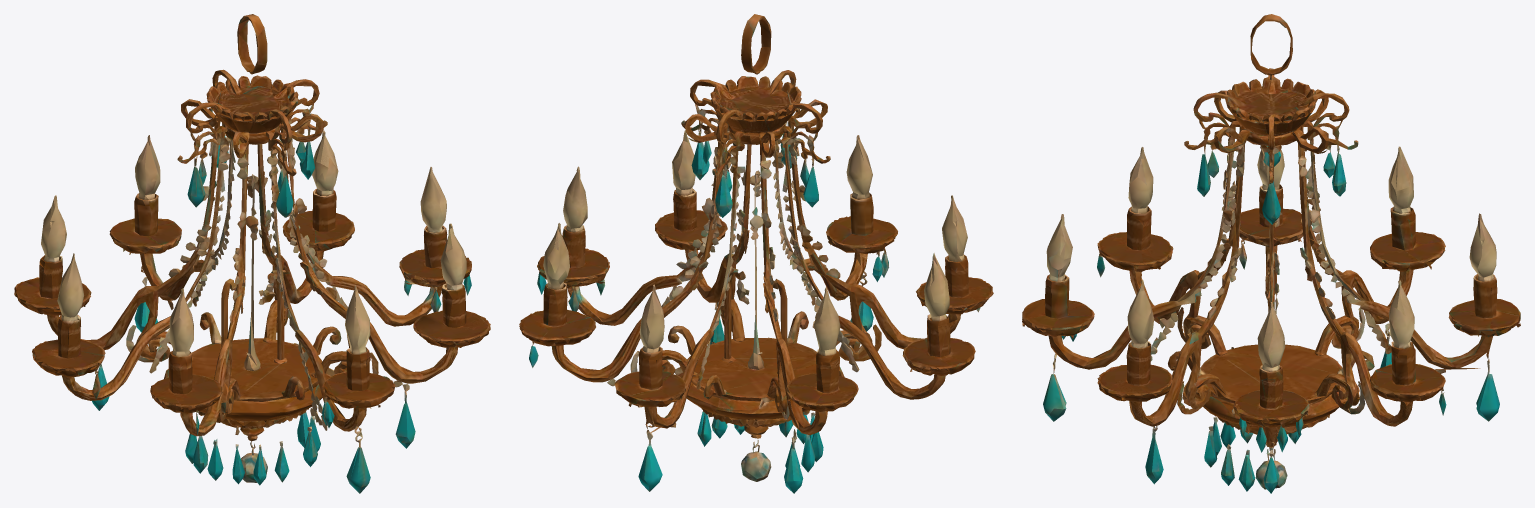
The model's file is mx_hh_chandelier.glb.
The picture shows the model from 3 angles, left to right: view 1: azimuth 30°, elevation 25°; view 2: azimuth 150°, elevation 25°; view 3: azimuth 270°, elevation 25°; orthographic projection.
Bounding box in the file's own units: 1.83 × 1.89 × 1.82.
1 material, 1 textured.
